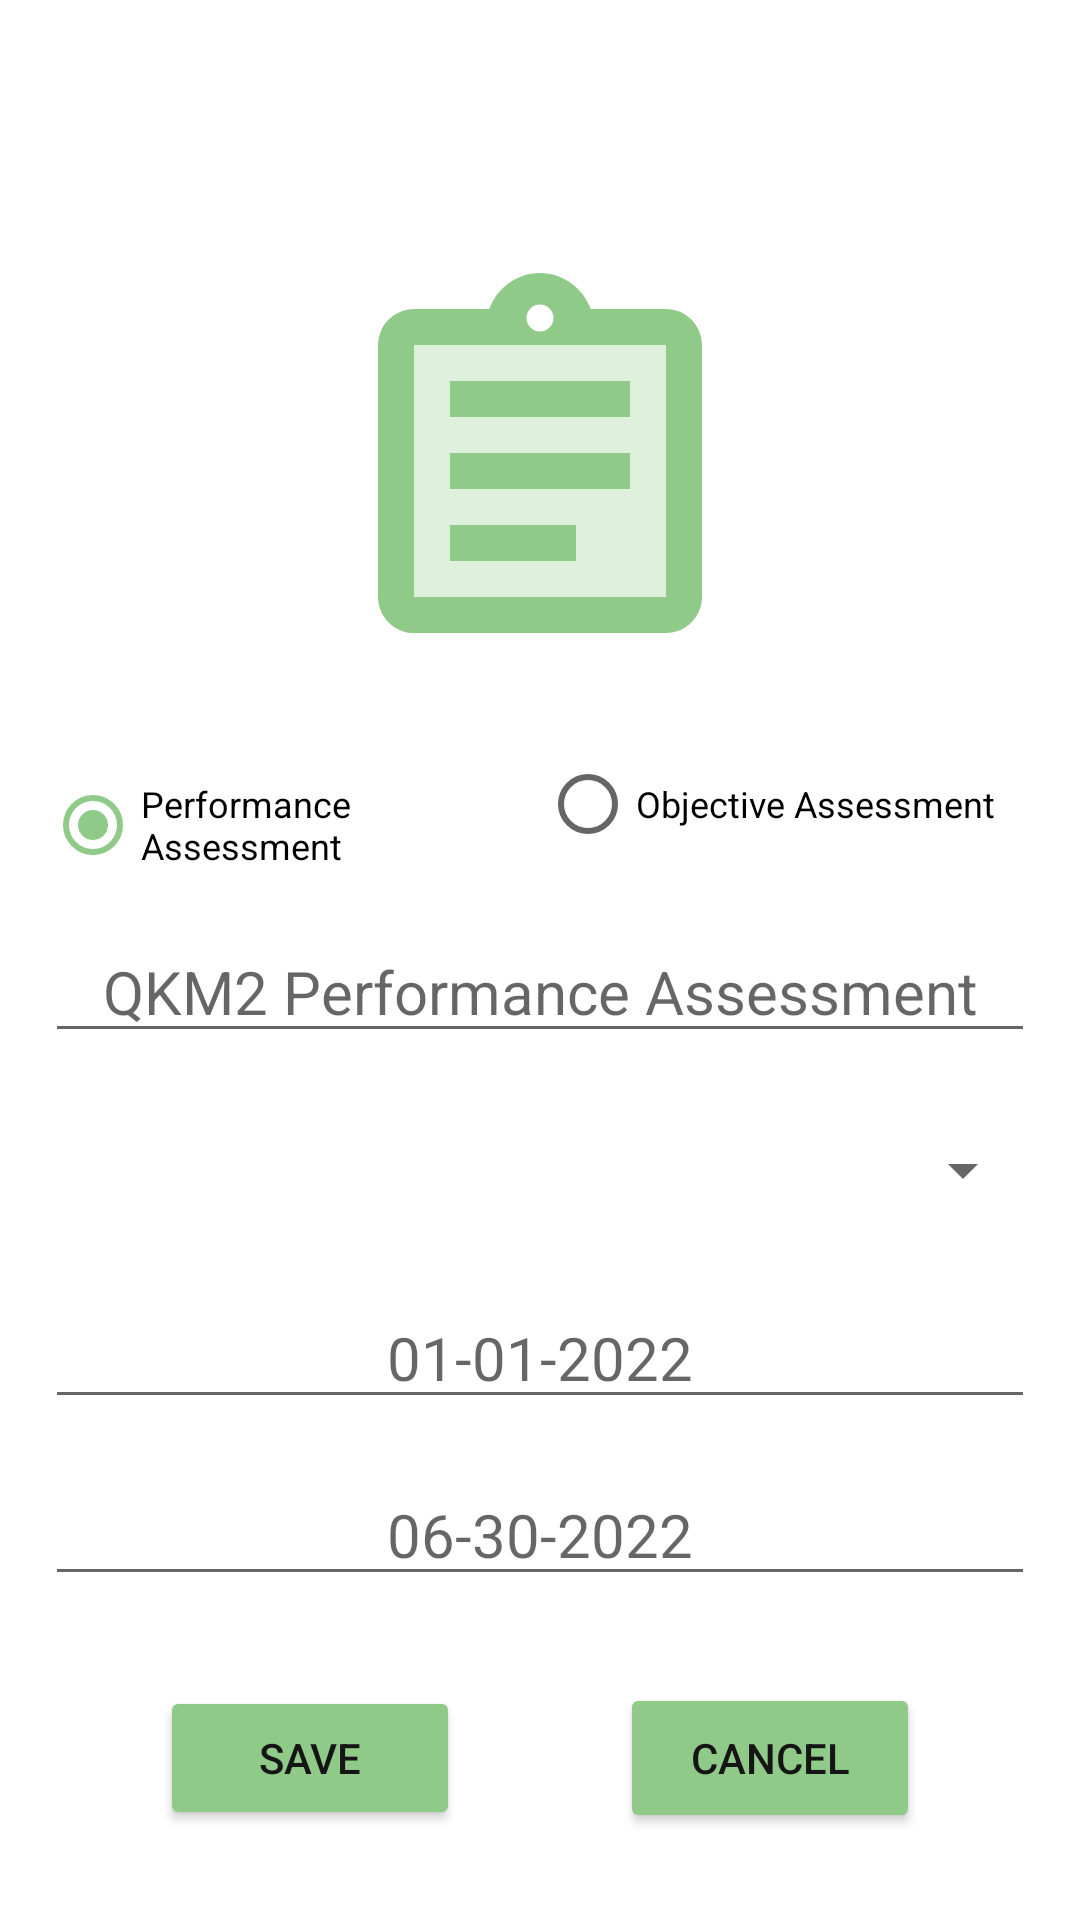

Where to tap for icons on this 1080*1920 app screen, as (x,y):
assignment: (540,453)
